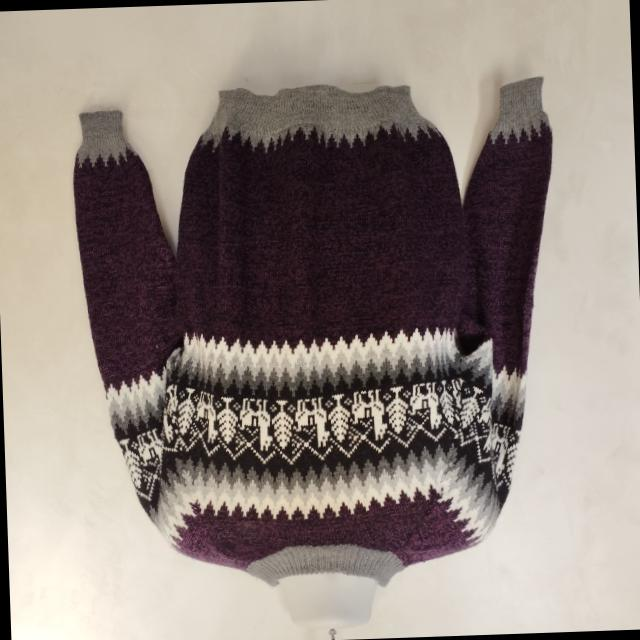Chompa: (69, 73, 570, 638)
